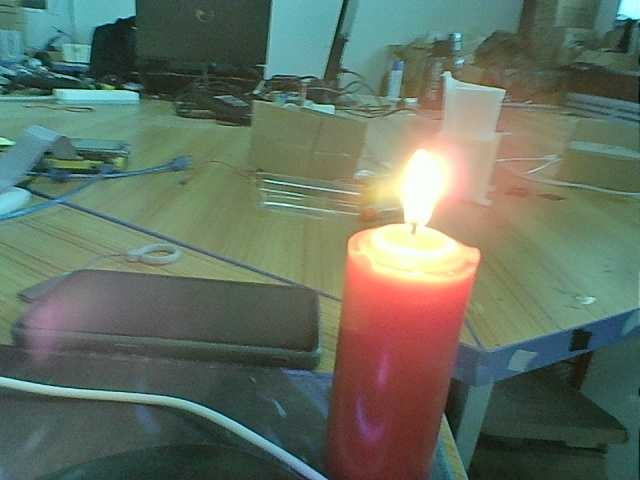candle: (323, 218, 471, 480)
fire: (390, 143, 456, 240)
